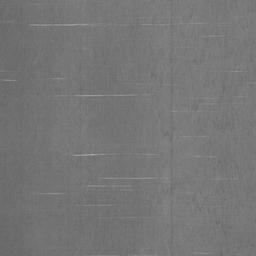Waist folding: (37, 70, 256, 159), (39, 152, 162, 220), (0, 18, 226, 39), (92, 253, 157, 256), (192, 251, 228, 256), (213, 206, 256, 209), (0, 77, 17, 83)
